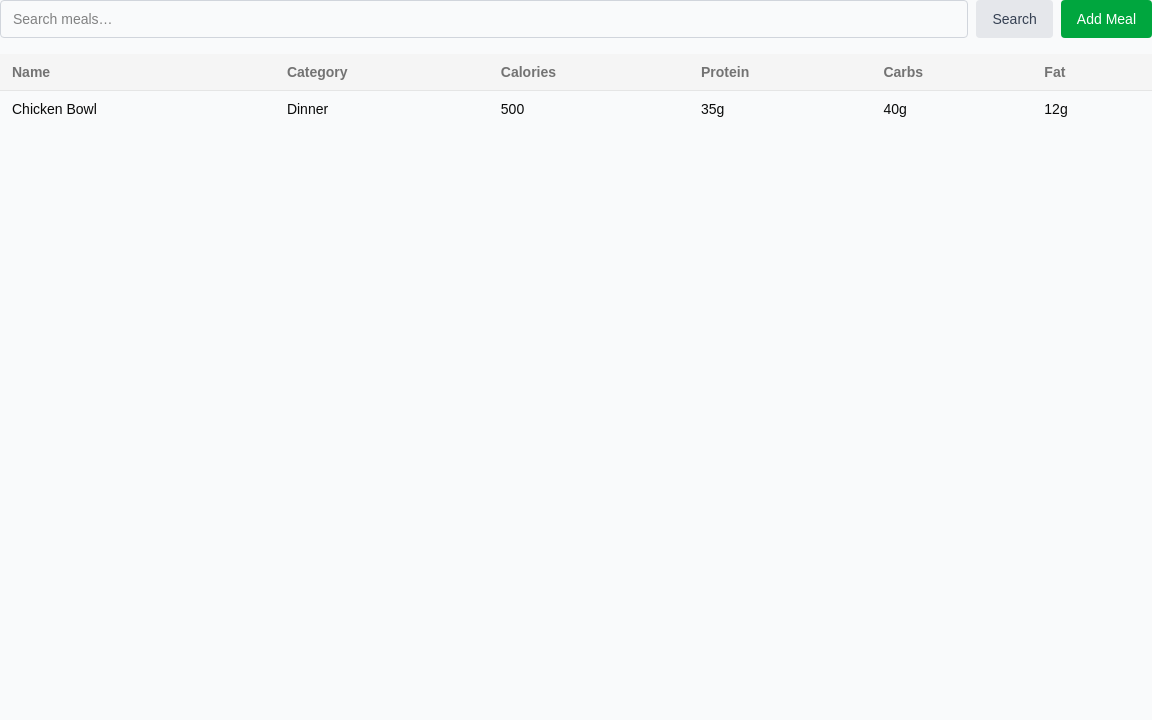
Test: MealsPage › opens a detail dialog when a meal row is clicked
Click the text "Chicken Bowl" at coordinates (54, 109), box [0,90,275,127]
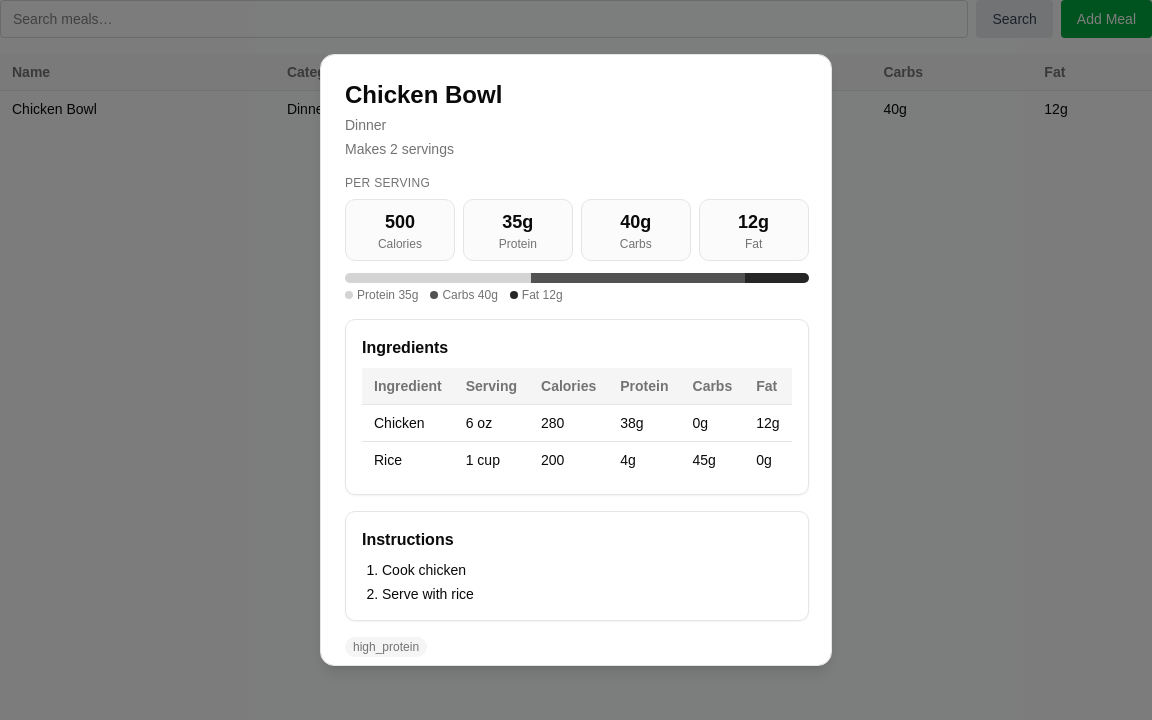
Expected: the text "Makes 2 servings" is shown, [345,141,454,157]
Expected: the list item "Cook chicken" is shown, [382,562,466,578]
